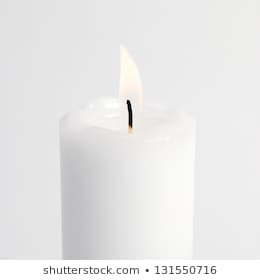Fire: (109, 41, 144, 116)
